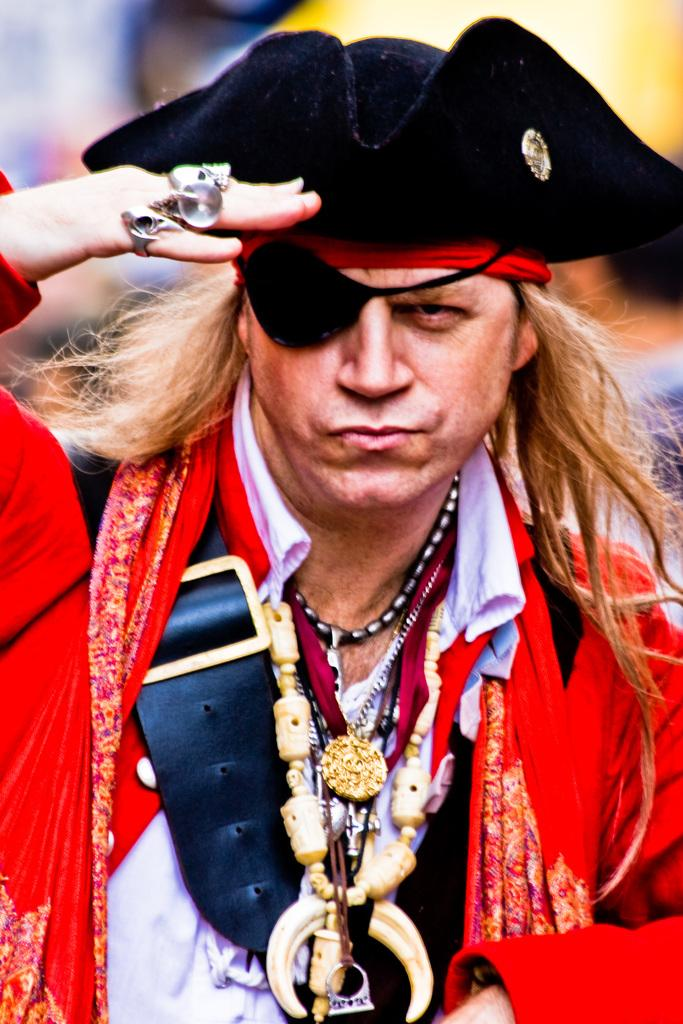Hat: (79, 18, 682, 268)
